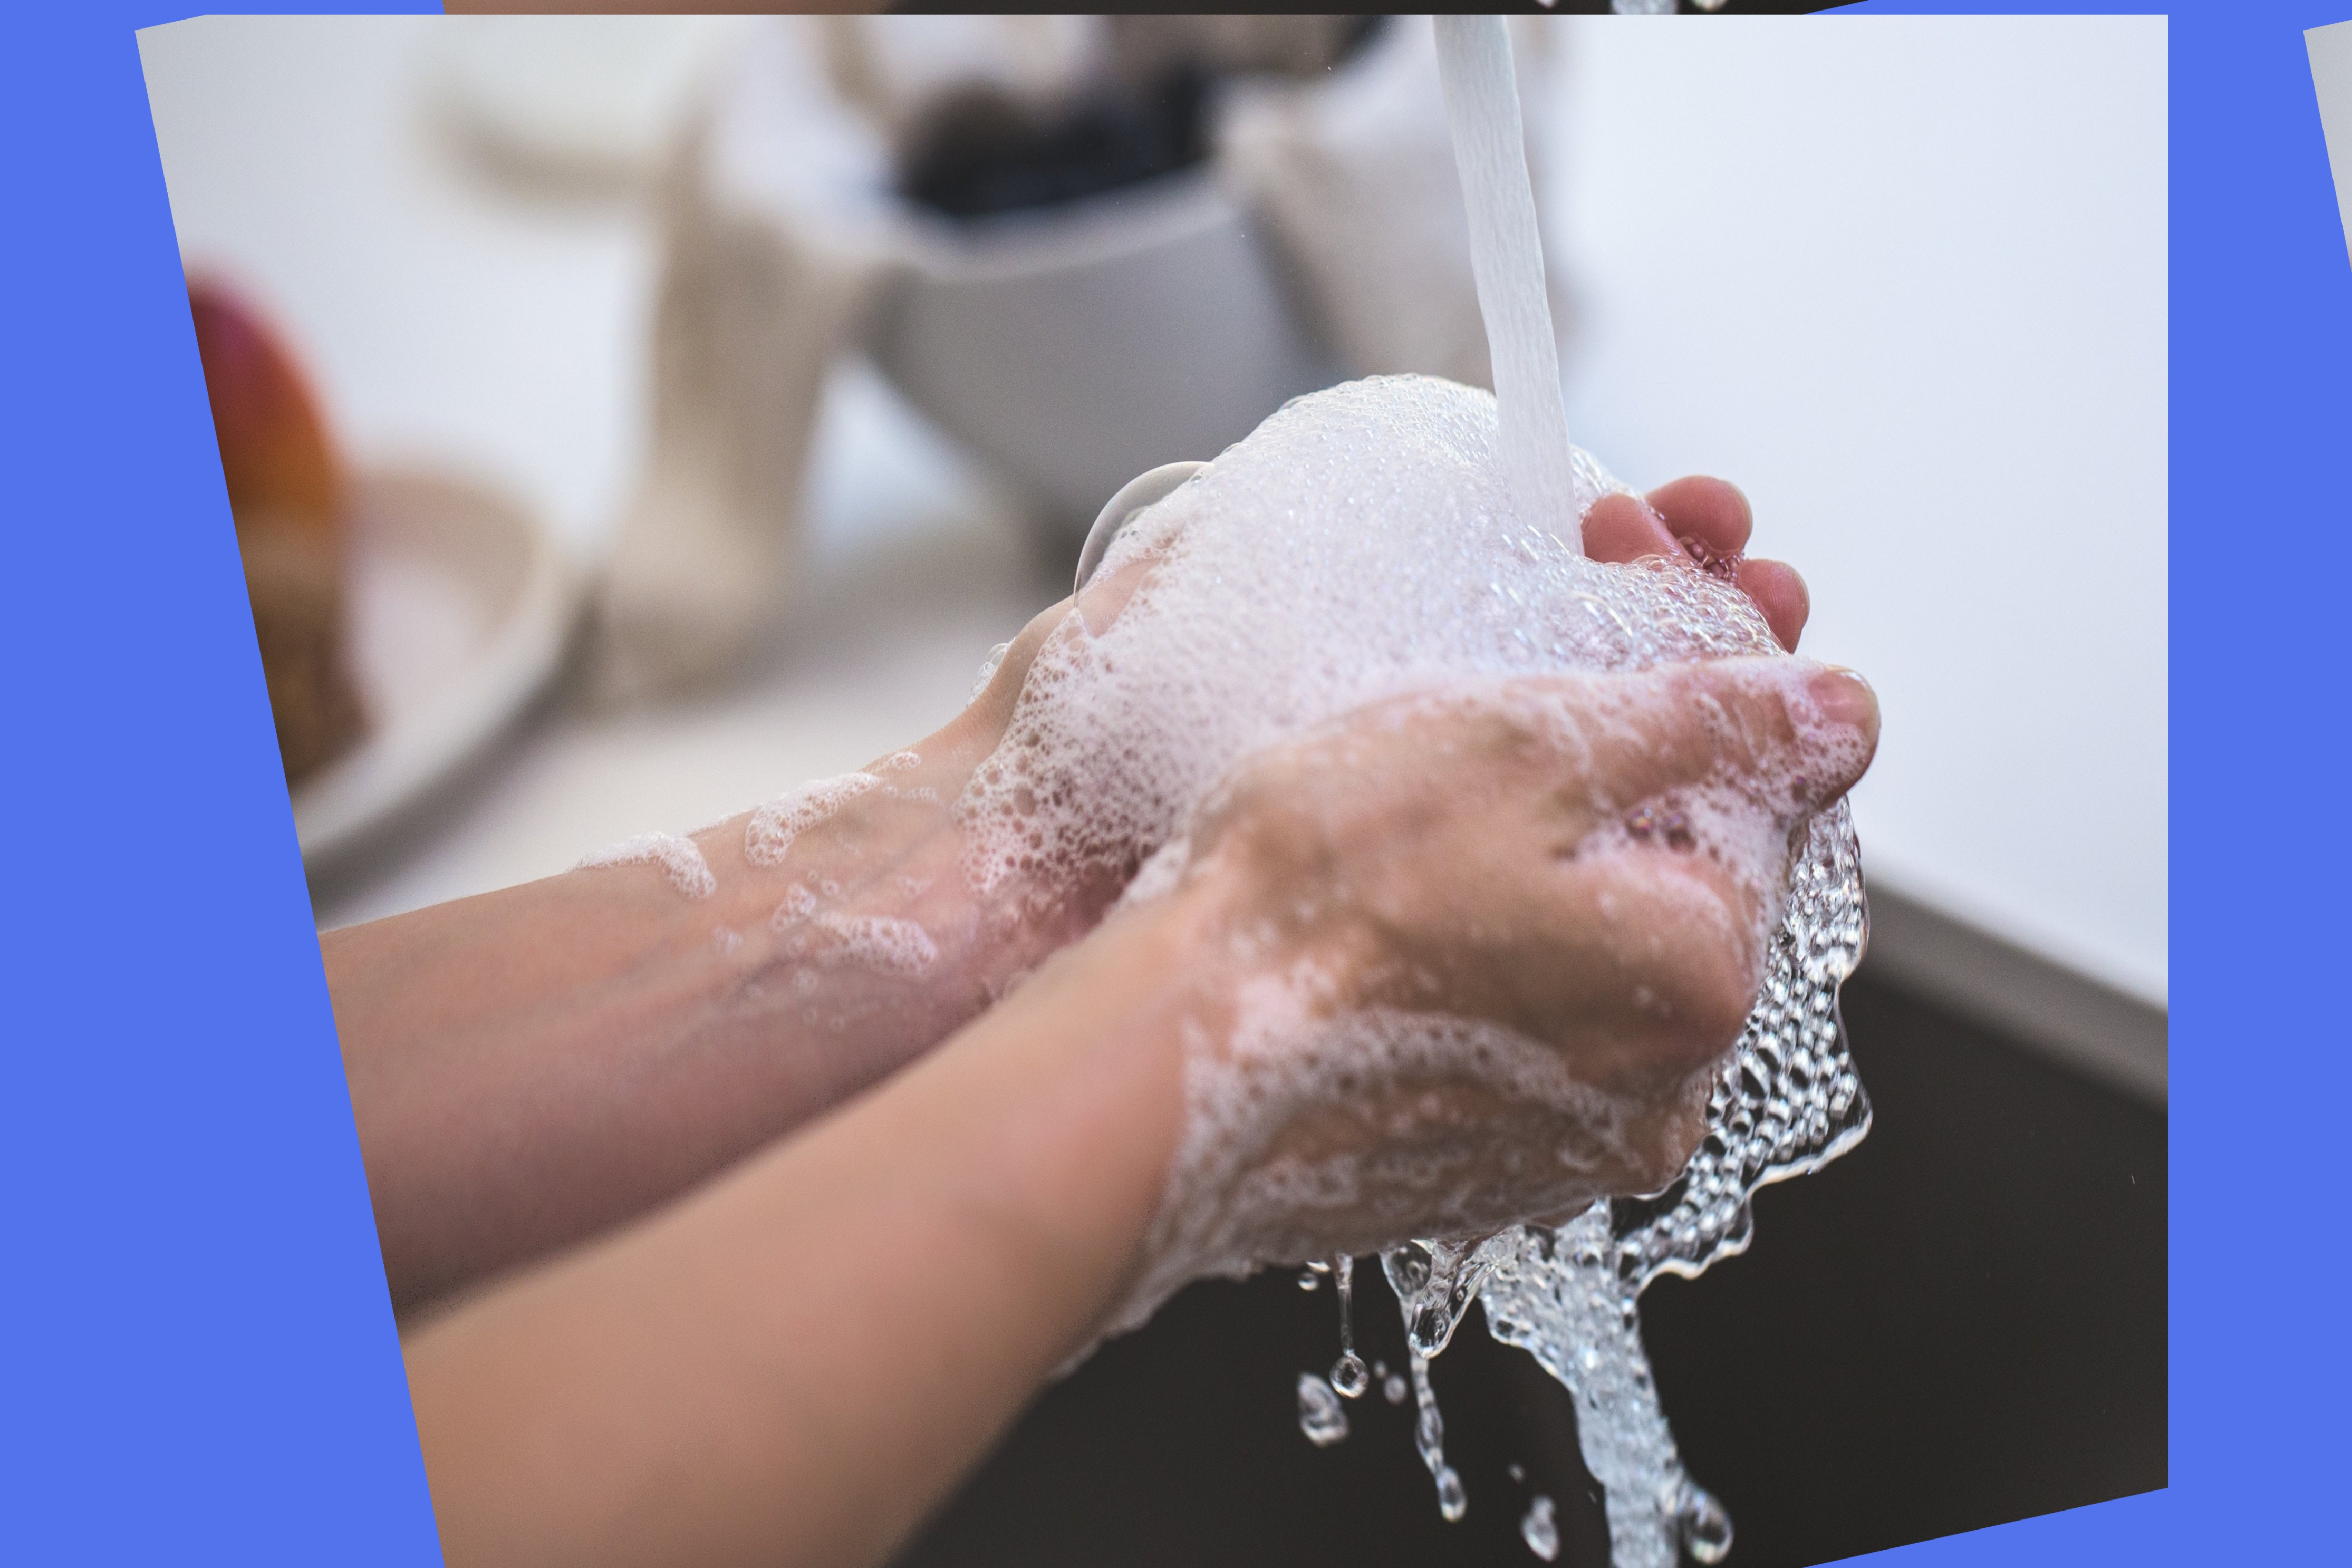washing hand: (649, 0, 2289, 1461)
